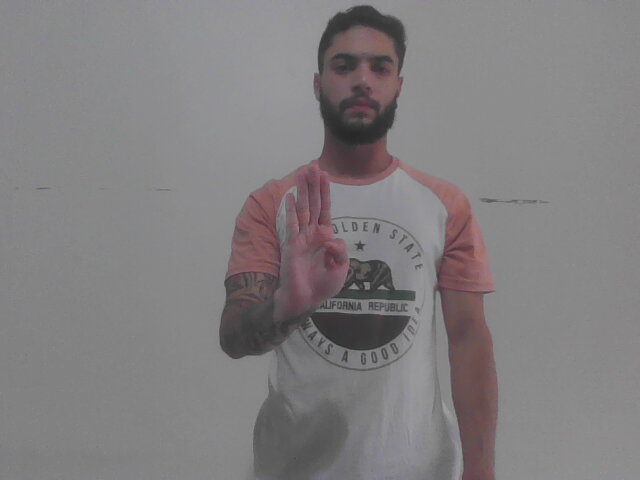b: (272, 158, 353, 318)
